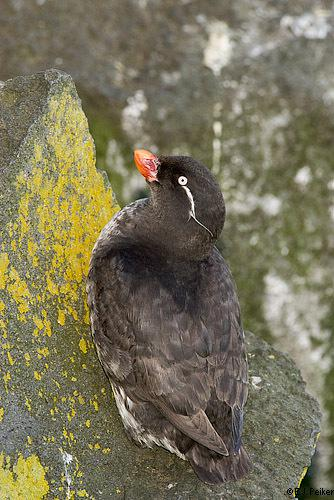007.Parakeet_Auklet: (86, 149, 254, 486)
